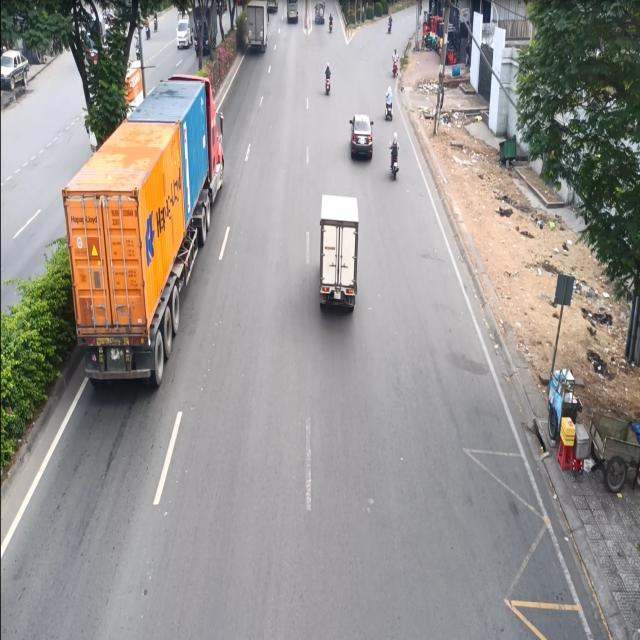car: (345, 106, 376, 166)
motor: (386, 130, 401, 183), (382, 81, 398, 120), (322, 60, 332, 97)
truck: (60, 57, 229, 398), (318, 185, 362, 324), (242, 0, 271, 49)
